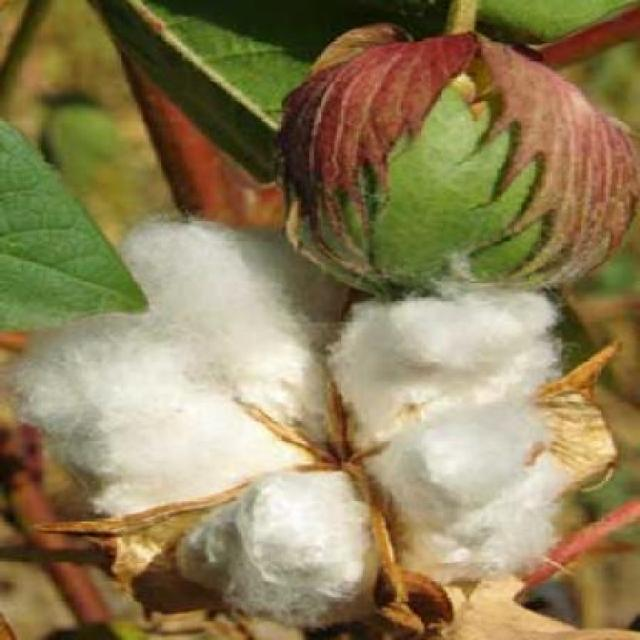cotton_ready: (2, 213, 582, 638)
